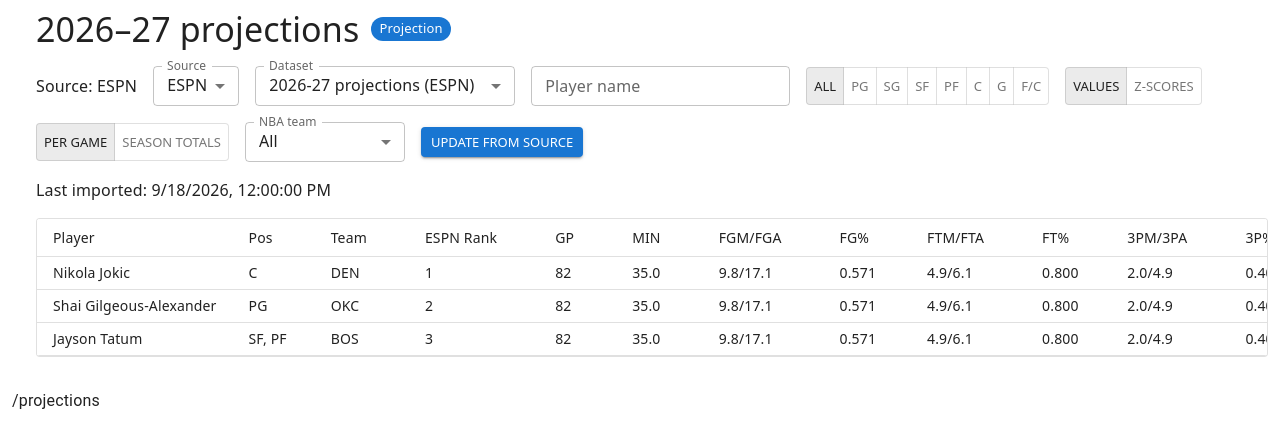
it: search jok leaves one player and does not refetch
The width and height of the screenshot is (1285, 426).
Expected: the text "Nikola Jokic" is shown, [37, 257, 232, 290]
Expected: the text "Shai Gilgeous-Alexander" is shown, [37, 290, 232, 323]
Type "jok" into the field labelled "Player name" at (661, 86), box [531, 66, 790, 106]
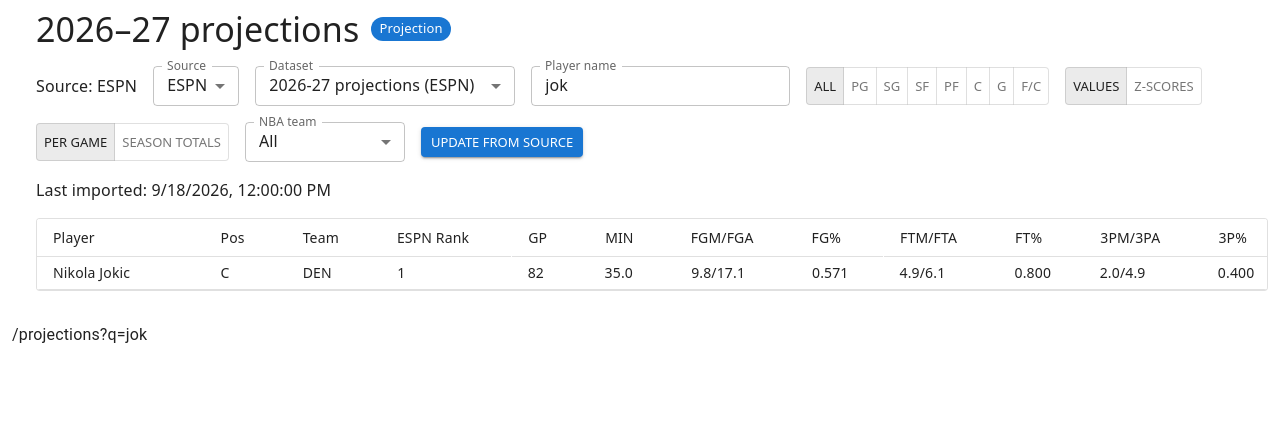
Result: the text "Shai Gilgeous-Alexander" is gone
Result: the text "Jayson Tatum" is gone
Result: the text with test id "location" reads "/projections?q=jok" at [12, 325, 147, 344]
